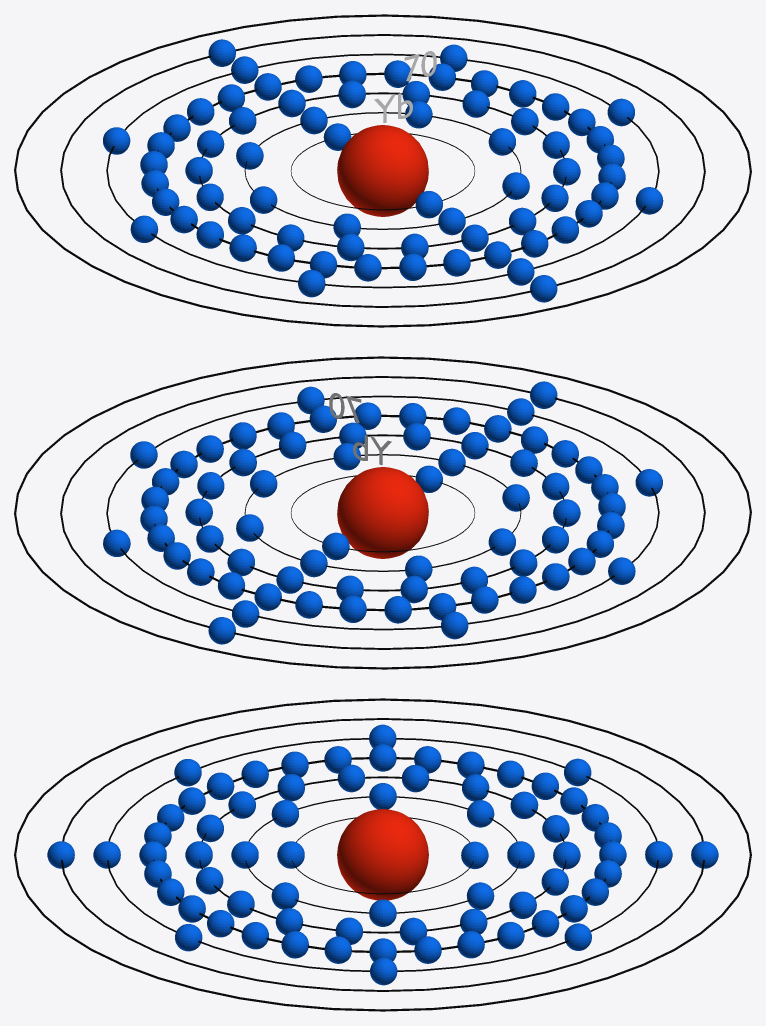
3 renders of one model, top to bottom at view 1: azimuth 30°, elevation 25°; view 2: azimuth 150°, elevation 25°; view 3: azimuth 270°, elevation 25°, orthographic.
Visible parts, largest first — view 1: Yb4, Yb3, Proton, Yb5, n7, Yb2, n6, n5, Yb6, Yb1, n3, n4 (+1 smaller); view 2: Yb4, Yb3, Proton, Yb5, n7, Yb2, n6, n5, Yb6, Yb1, n3, n4 (+1 smaller); view 3: Yb4, Yb3, Proton, Yb2, n7, Yb5, n6, n5, Yb1, Yb6, n3, n4 (+2 smaller).
Boxes of the visible parts, <box> form: Yb4: <box>140,60,625,281</box>; Yb3: <box>185,80,580,261</box>; Proton: <box>337,125,428,216</box>; Yb5: <box>103,44,663,297</box>; n7: <box>14,14,751,327</box>; Yb2: <box>236,101,529,238</box>; n6: <box>60,34,705,307</box>; n5: <box>106,53,659,288</box>; Yb6: <box>208,39,557,302</box>; Yb1: <box>323,123,442,218</box>; n3: <box>199,92,566,249</box>; n4: <box>152,72,611,269</box>; Yb4: <box>140,402,625,623</box>; Yb3: <box>185,422,580,603</box>; Proton: <box>337,467,428,558</box>; Yb5: <box>103,386,662,639</box>; n7: <box>14,356,751,669</box>; Yb2: <box>236,443,529,580</box>; n6: <box>60,376,705,649</box>; n5: <box>106,395,659,630</box>; Yb6: <box>208,381,557,644</box>; Yb1: <box>322,465,442,560</box>; n3: <box>199,434,566,591</box>; n4: <box>153,414,613,611</box>; Yb4: <box>139,744,626,963</box>; Yb3: <box>185,764,580,945</box>; Proton: <box>337,809,428,900</box>; Yb2: <box>231,783,534,926</box>; n7: <box>14,698,751,1011</box>; Yb5: <box>93,724,672,985</box>; n6: <box>61,718,704,991</box>; n5: <box>107,738,658,971</box>; Yb1: <box>277,841,488,869</box>; Yb6: <box>47,841,718,868</box>; n3: <box>199,776,566,933</box>; n4: <box>153,757,612,952</box>.
Bounding box in the file's own units: 802 × 180 × 802.
